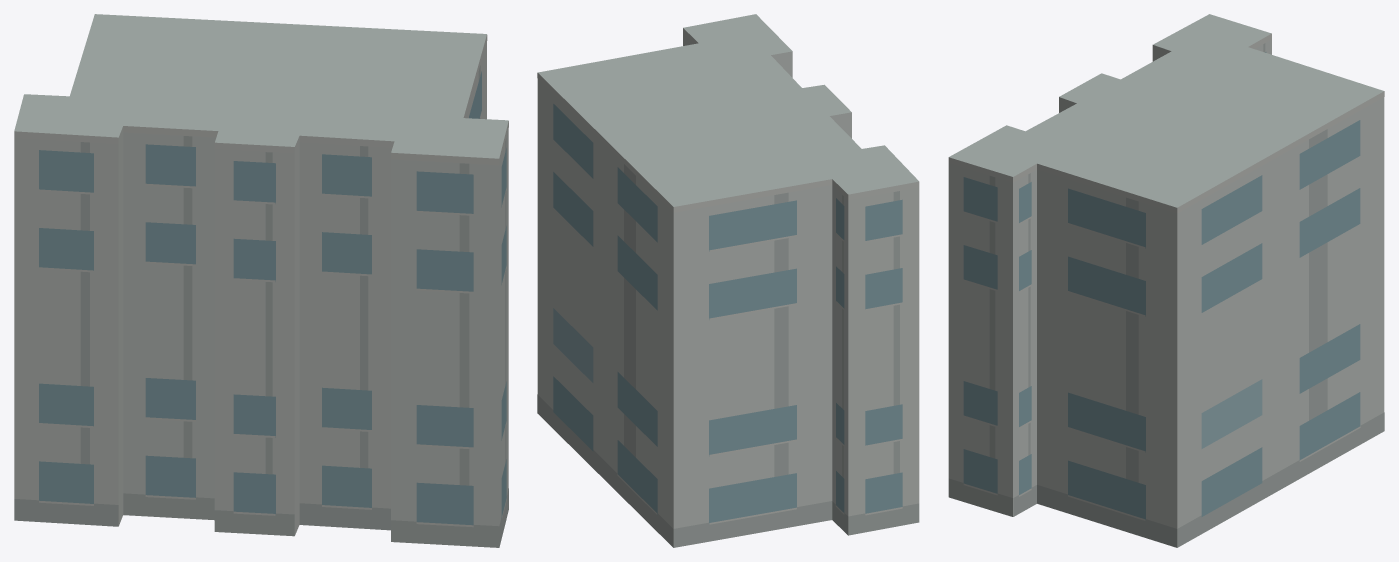
The model's file is survey-upis-32920386.glb.
3 views of the same model, side by side, from view 1: azimuth 30°, elevation 25°; view 2: azimuth 150°, elevation 25°; view 3: azimuth 270°, elevation 25° (orthographic). The views are drawn at different scales.
Parts seen in each view (by area): view 1: survey-upis-32920386.tmp; view 2: survey-upis-32920386.tmp; view 3: survey-upis-32920386.tmp.
Part boxes in pixels (box(x1,y1,x2,y2)): survey-upis-32920386.tmp: box(14, 14, 508, 547); survey-upis-32920386.tmp: box(537, 14, 919, 547); survey-upis-32920386.tmp: box(948, 14, 1384, 547).
Size of the model in its own units: 17.36 by 14.2 by 16.5.
